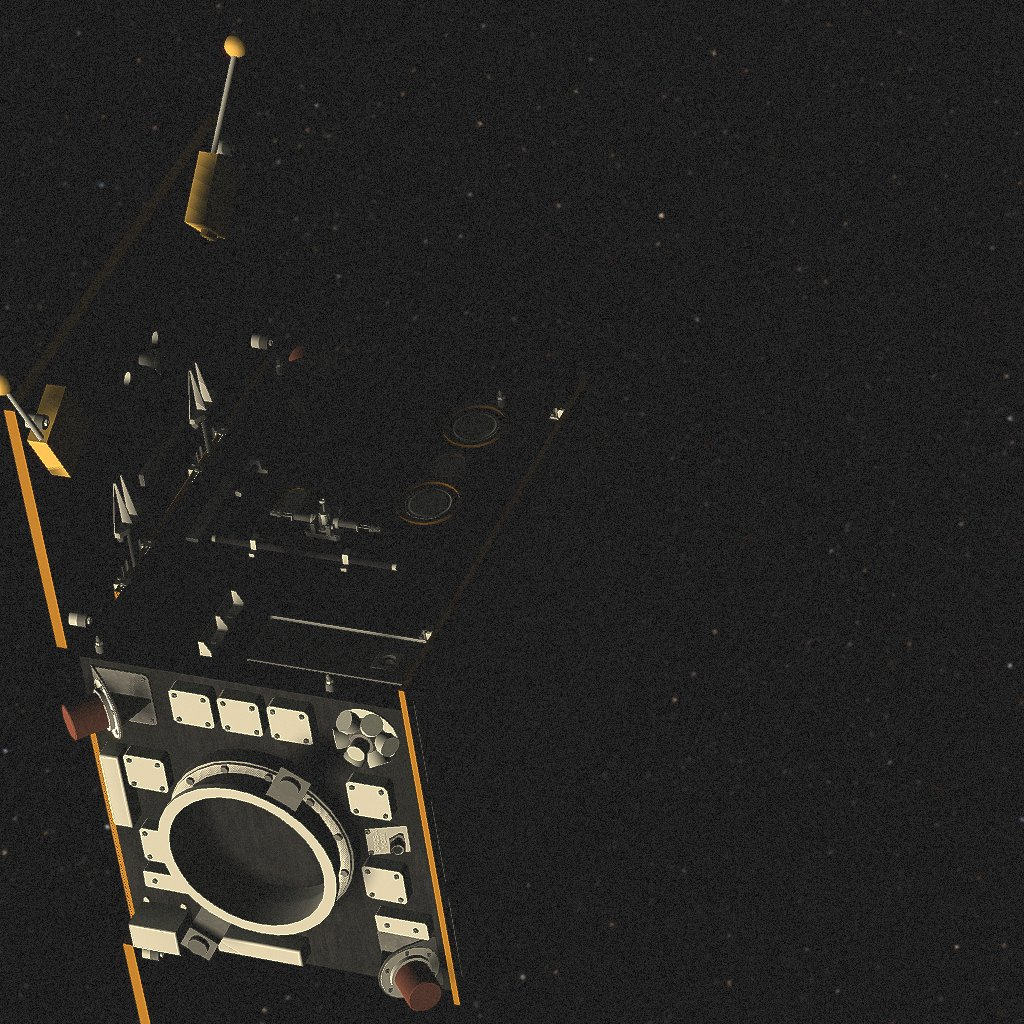proba_2: (0, 34, 641, 1024)
